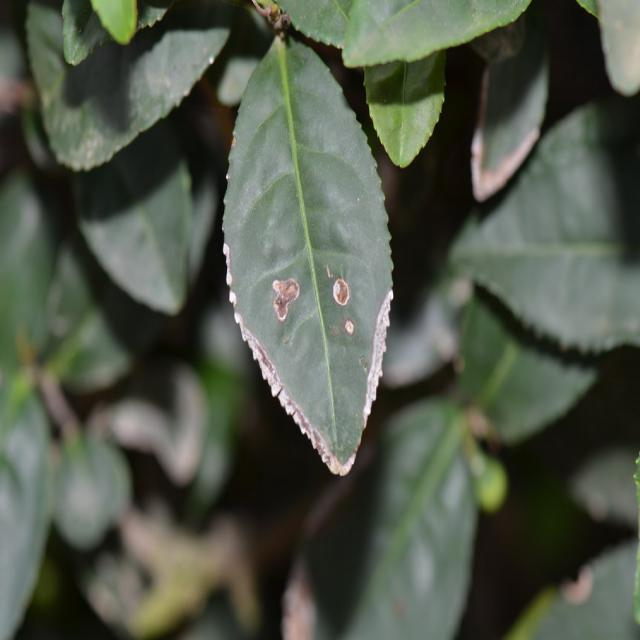Tea cloud leaf blight: (215, 225, 407, 466)
